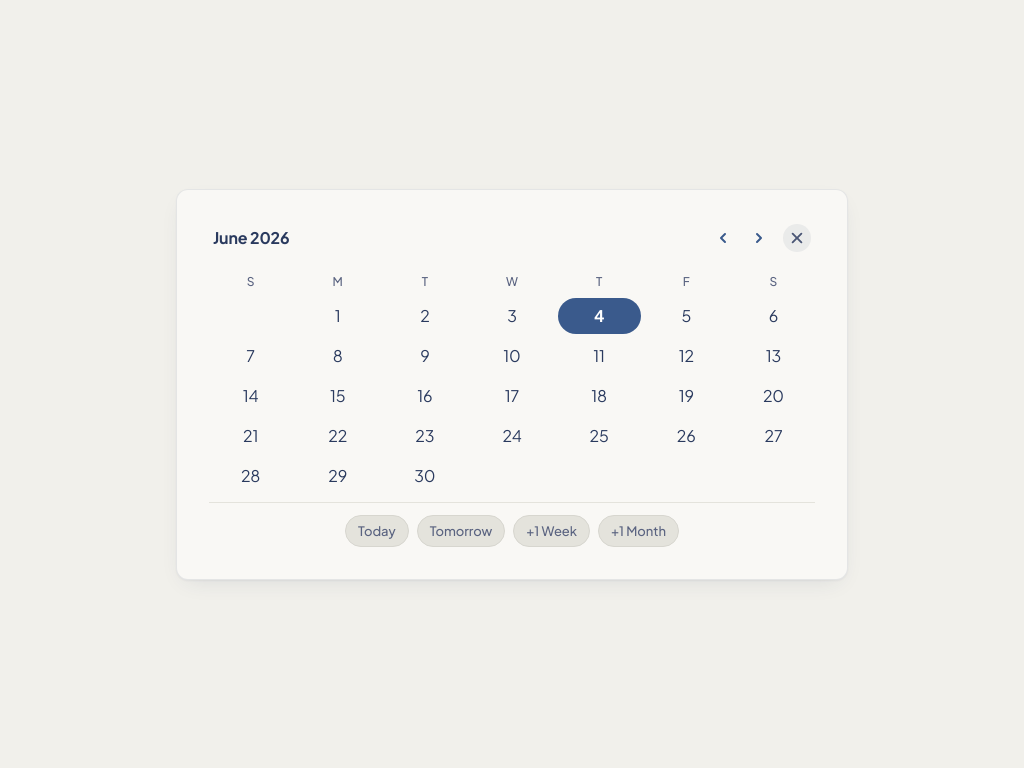
Test: DatePickerCallout › navigates but does not select for '+1 Month' quick action
Click the button "+1 Month".
click(638, 530)  # box [598,514,679,546]
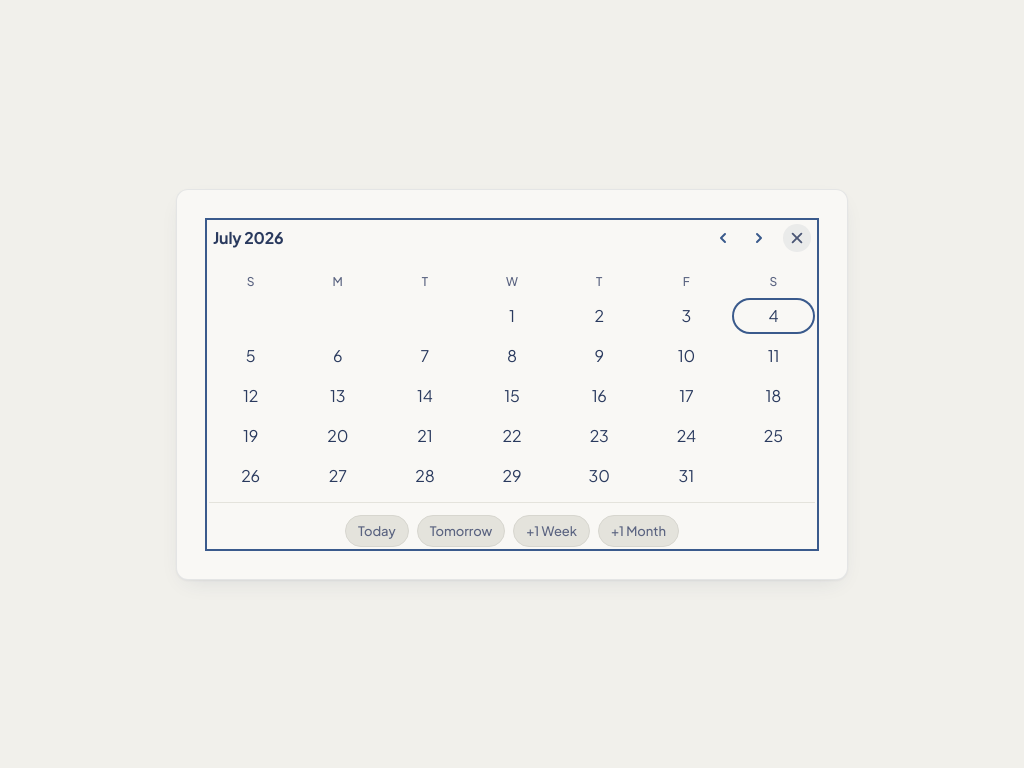
expect the text "July 2026" is shown: met, box [213,227,284,248]
